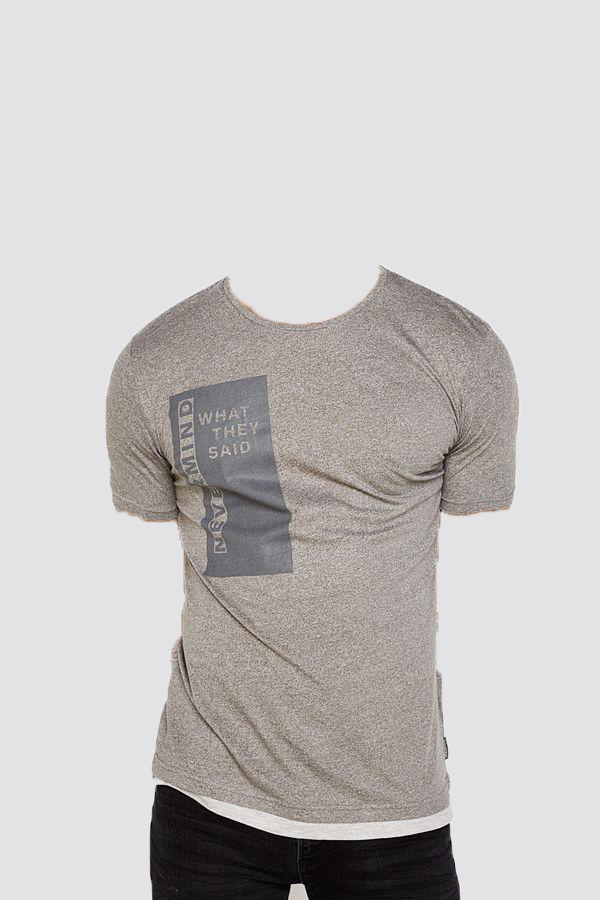teeshirt: (100, 262, 522, 833)
